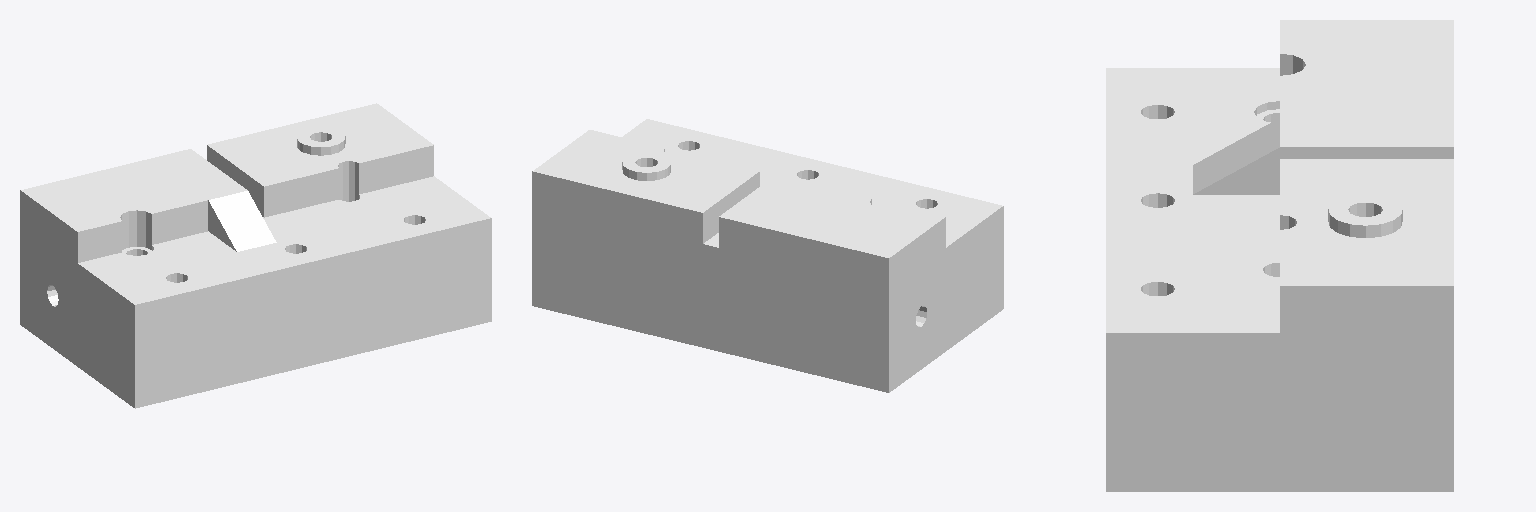
The robot description file, URDF, robot "imagination test modeling":
<?xml version="1.0" encoding="utf-8"?>
<!-- This URDF was automatically created by SolidWorks to URDF Exporter! Originally created by [author] ([email redacted]) 
     Commit Version: 1.5.1-0-g916b5db  Build Version: 1.5.7152.31018
     For more information, please see http://wiki.ros.org/sw_urdf_exporter -->
<robot
  name="imagination test modeling">
  <link
    name="imagination test modeling">
    <inertial>
      <origin
        xyz="0.09012203 0.0534564 0.029097"
        rpy="0 0 0" />
      <mass
        value="1.0141" />
      <inertia
        ixx="0.0011396"
        ixy="1.9732E-06"
        ixz="4.0715E-08"
        iyy="0.0030487"
        iyz="9.0129E-05"
        izz="0.0035721" />
    </inertial>
    <visual>
      <origin
        xyz="0.09 0.05 0"
        rpy="0 0 3.14159265358979" />
      <geometry>
        <mesh
          filename="package://imagination test modeling/meshes/imagination test modeling.STL" />
      </geometry>
      <material
        name="">
        <color
          rgba="1 1 1 1" />
        <texture
          filename="package://imagination test modeling/textures/" />
      </material>
    </visual>
    <collision>
      <origin
        xyz="0.09 0.05 0"
        rpy="0 0 3.14159265358979" />
      <geometry>
        <mesh
          filename="package://imagination test modeling/meshes/imagination test modeling.STL" />
      </geometry>
    </collision>
  </link>
</robot>

--- Render facts (derived) ---
The picture shows the robot from 3 angles, left to right: view 1: azimuth 30°, elevation 25°; view 2: azimuth 150°, elevation 25°; view 3: azimuth 270°, elevation 25°; orthographic projection.
Model imagination test modeling with 1 links and 0 joints (none), rooted at imagination test modeling, posed every joint at zero.
Visible links, largest first — view 1: imagination test modeling; view 2: imagination test modeling; view 3: imagination test modeling.
Boxes of the visible links, bbox=[...] form: imagination test modeling: bbox=[20, 103, 491, 408]; imagination test modeling: bbox=[532, 119, 1003, 392]; imagination test modeling: bbox=[1106, 20, 1453, 491].
Size in the robot's own frame: 0.18 by 0.1 by 0.069 metres.
1 mesh visuals loaded from 1 distinct referenced files (1 binary STL).